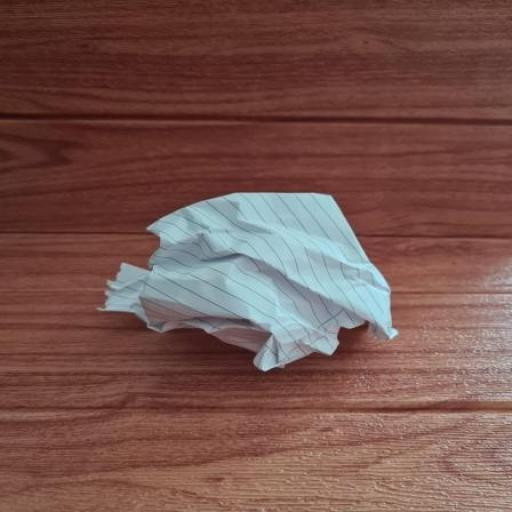paper: (55, 132, 484, 413)
